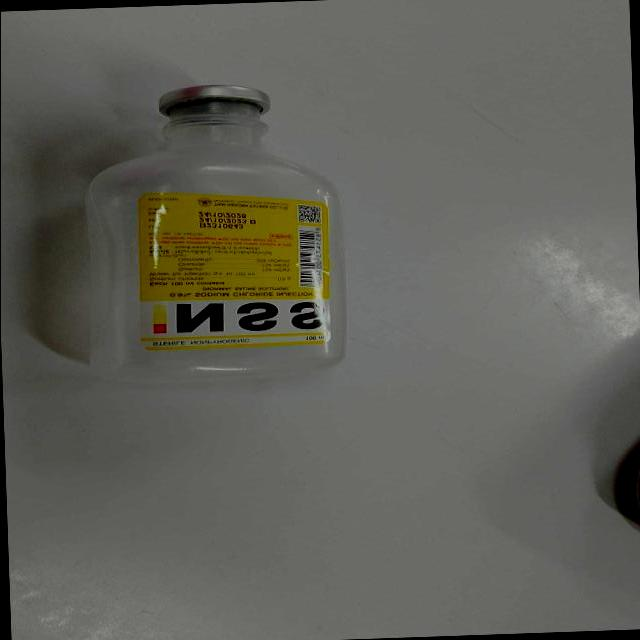General: (80, 82, 348, 381)
Infectious: (136, 190, 332, 351)
